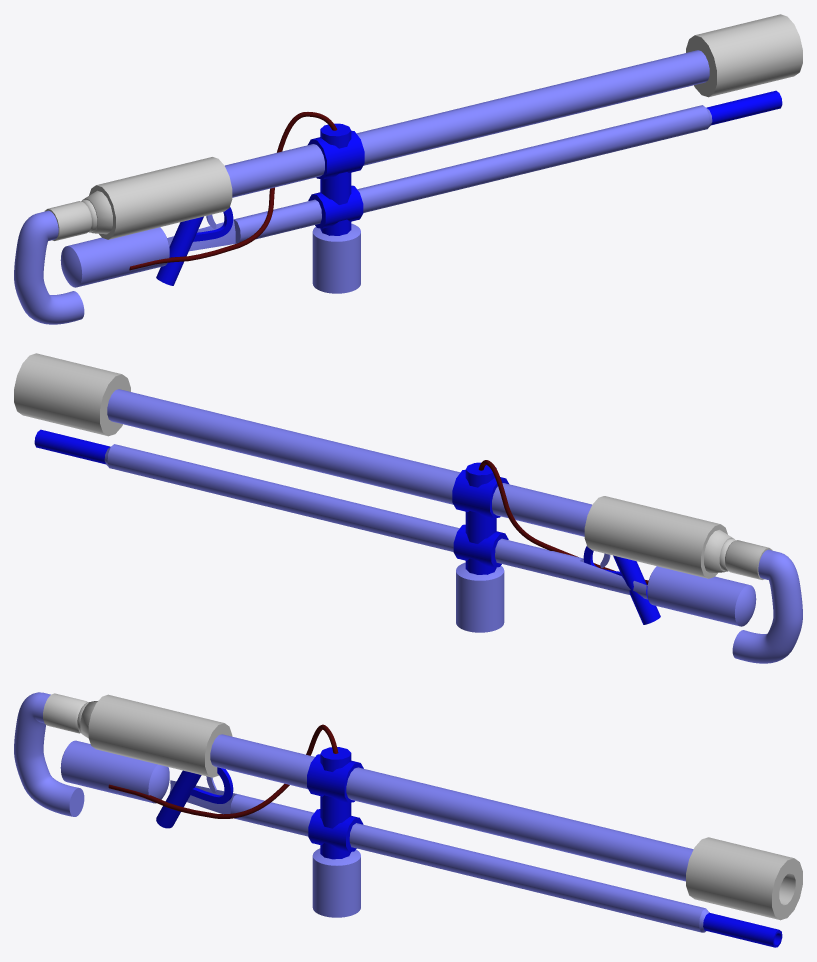
Rendered from FireThrower.dae.
The picture shows the model from 3 angles, top to bottom: view 1: azimuth 30°, elevation 25°; view 2: azimuth 150°, elevation 25°; view 3: azimuth 330°, elevation 25°; orthographic projection.
Parts seen in each view (by area): view 1: Cylindre, Cylindre.2, Extrusion_contrôlée, Citerne, Citerne.1, Cylindre.3, Cylindre.4, Extrusion_contrôlée.2, Cylindre.1, Cylindre.5; view 2: Cylindre, Cylindre.2, Citerne, Extrusion_contrôlée, Citerne.1, Cylindre.3, Cylindre.4, Cylindre.5, Cylindre.1, Extrusion_contrôlée.2; view 3: Cylindre, Cylindre.2, Citerne, Extrusion_contrôlée, Citerne.1, Cylindre.3, Cylindre.4, Extrusion_contrôlée.2, Cylindre.5, Cylindre.1, Extrusion_contrôlée.1.
Boxes of the visible parts, box(x1,y1,x2,y2) form: Cylindre: box(44, 14, 802, 240); Cylindre.2: box(167, 90, 782, 251); Extrusion_contrôlée: box(14, 210, 84, 324); Citerne: box(60, 227, 169, 287); Citerne.1: box(312, 223, 360, 293); Cylindre.3: box(320, 123, 351, 235); Cylindre.4: box(308, 130, 364, 179); Extrusion_contrôlée.2: box(130, 112, 337, 270); Cylindre.1: box(156, 216, 203, 285); Cylindre.5: box(308, 185, 363, 228); Cylindre: box(14, 353, 772, 579); Cylindre.2: box(34, 429, 647, 599); Citerne: box(647, 566, 756, 626); Extrusion_contrôlée: box(732, 549, 802, 663); Citerne.1: box(456, 562, 504, 632); Cylindre.3: box(465, 462, 496, 574); Cylindre.4: box(452, 469, 508, 518); Cylindre.5: box(453, 524, 508, 567); Cylindre.1: box(613, 555, 660, 624); Extrusion_contrôlée.2: box(478, 460, 648, 585); Cylindre: box(43, 693, 802, 920); Cylindre.2: box(169, 780, 782, 947); Citerne: box(60, 740, 169, 803); Extrusion_contrôlée: box(14, 692, 78, 816); Citerne.1: box(312, 848, 360, 917); Cylindre.3: box(320, 747, 351, 859); Cylindre.4: box(307, 754, 363, 802); Extrusion_contrôlée.2: box(108, 724, 338, 818); Cylindre.5: box(308, 809, 363, 852); Cylindre.1: box(156, 770, 201, 828); Extrusion_contrôlée.1: box(190, 767, 233, 803).
Bounding box in the file's own units: 361 × 77.72 × 25.4.
